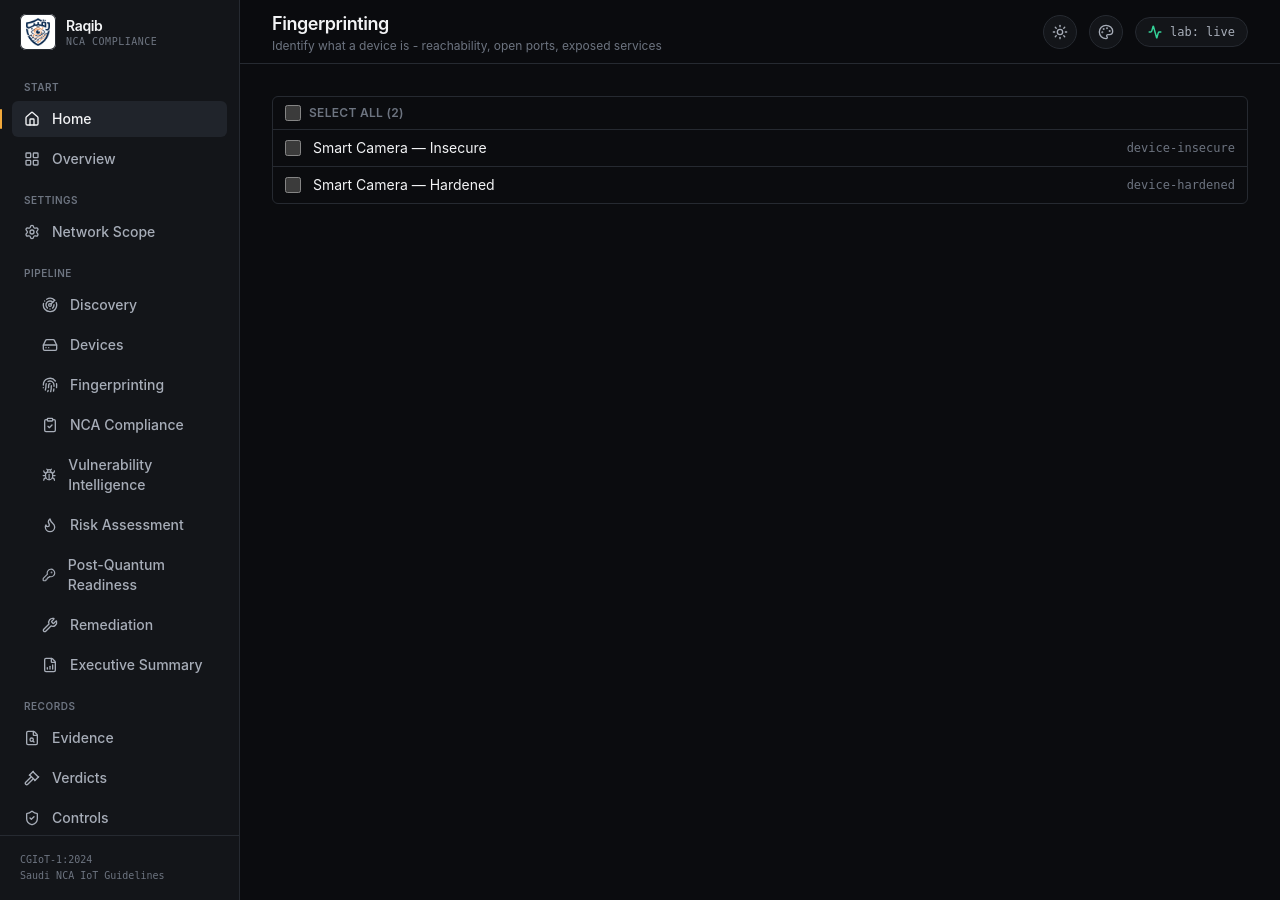
Test: FingerprintingPage › shows a PhaseRunnerCard, scoped to fingerprinting tests only, for each selected device
Expected: the text "device-insecure" is shown, [1127,140,1235,156]
Click the checkbox labelled "Select all (2)": [293, 113] box [285,105,301,121]
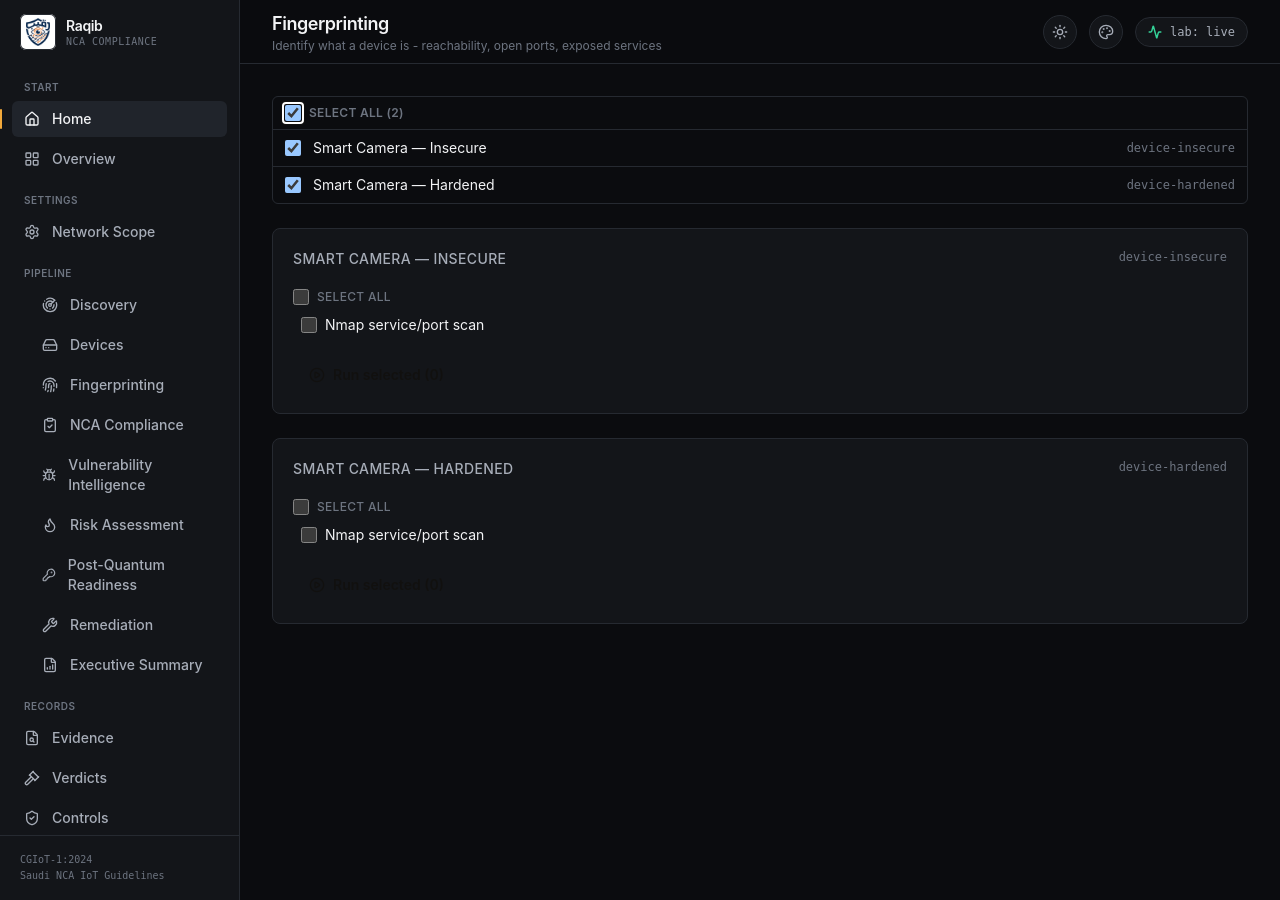
Expected: the text "Nmap service/port scan" is shown 2 times, [301,316,484,333]; [301,526,484,543]
